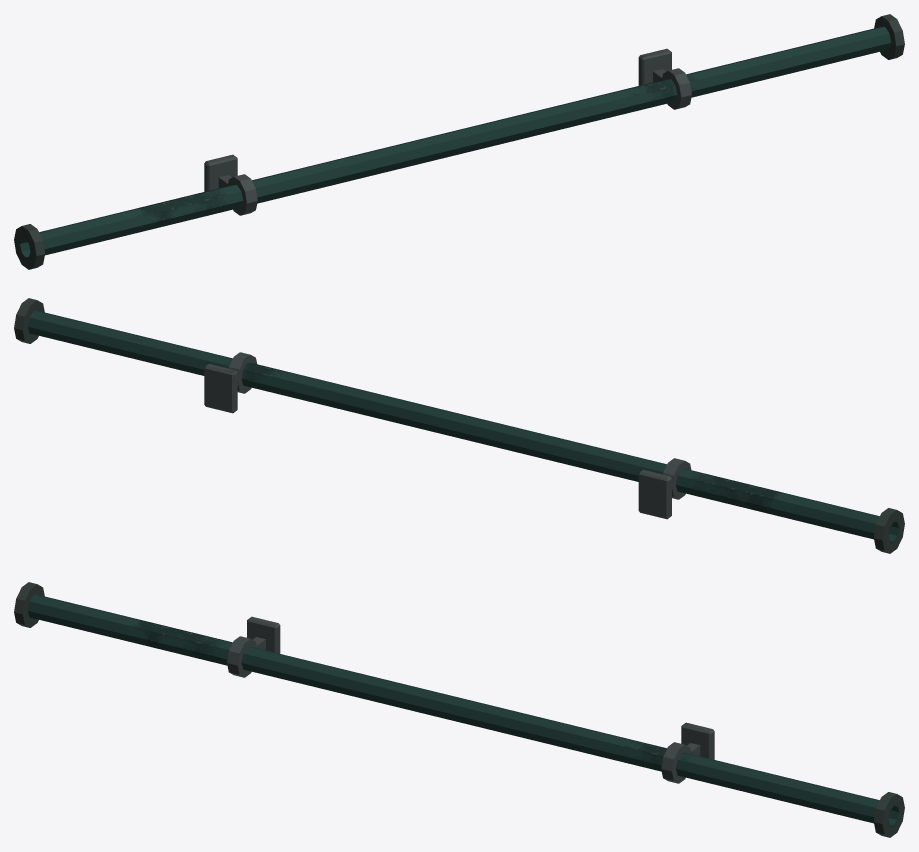
The model's file is pipe_straight_4m.glb.
3 renders of one model, top to bottom at view 1: azimuth 30°, elevation 25°; view 2: azimuth 150°, elevation 25°; view 3: azimuth 330°, elevation 25°, orthographic.
Visible parts, largest first — view 1: pipe_straight_4m; view 2: pipe_straight_4m; view 3: pipe_straight_4m.
Boxes of the visible parts, x1,y1,x2,y2 form: pipe_straight_4m: (14, 14, 904, 269); pipe_straight_4m: (14, 298, 904, 553); pipe_straight_4m: (14, 582, 904, 837).
Size of the model in its own units: 4 by 0.18 by 0.28.
1 material, 1 textured.
